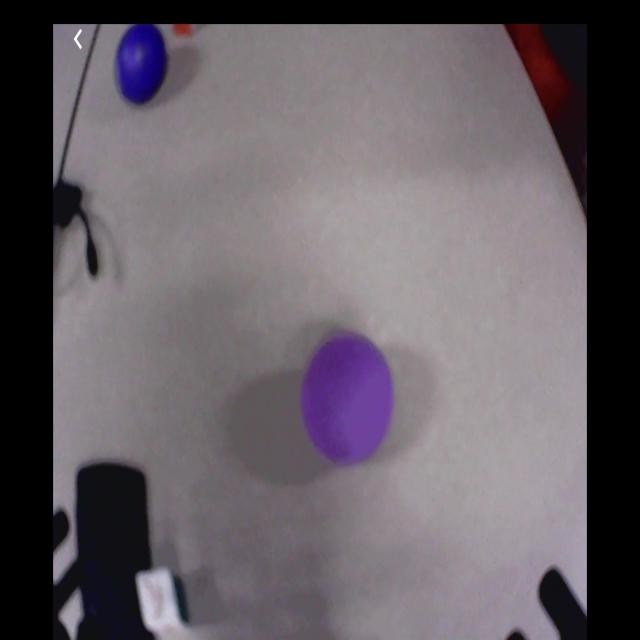ball: (302, 330, 394, 471), (116, 26, 172, 106)
